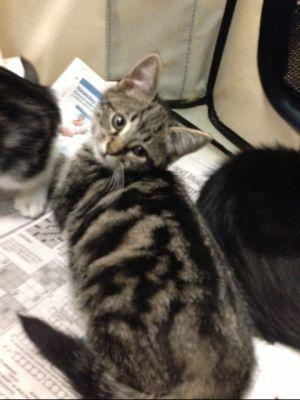bengal: (78, 46, 217, 187)
